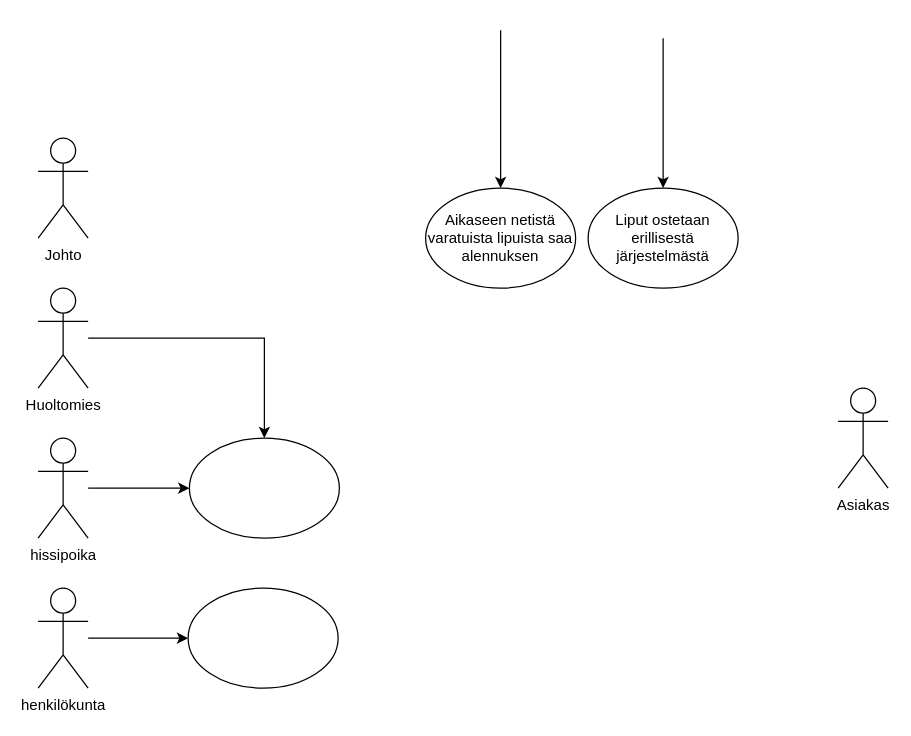
Image size: 911x736. Some labels were removed from this diagram. Here are the shapes that lost their labels. From the top down, the centre of each, then its label:
At point 263,487: "Hissin ohjaus (Käynnistys, pysäytys)".
At point 262,637: "Välineiden vuokraamisen raportointi tietojärjestelmään".
